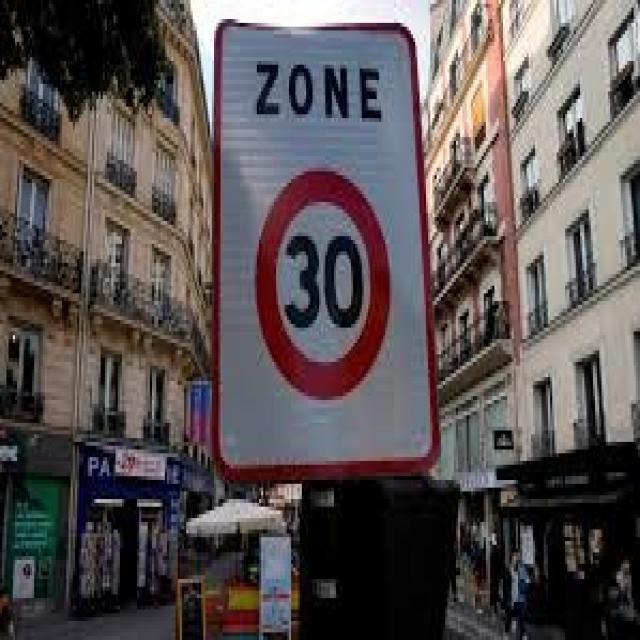speed_limit_30: (248, 156, 396, 402)
